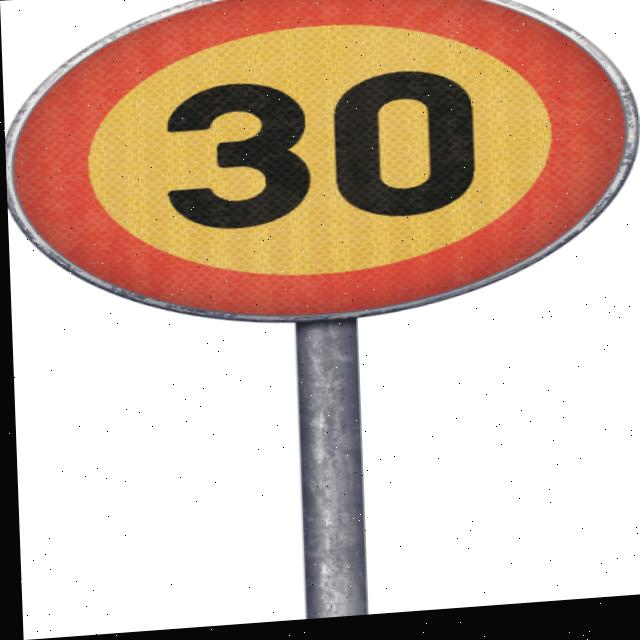Speed limit 30: (4, 1, 640, 346)
